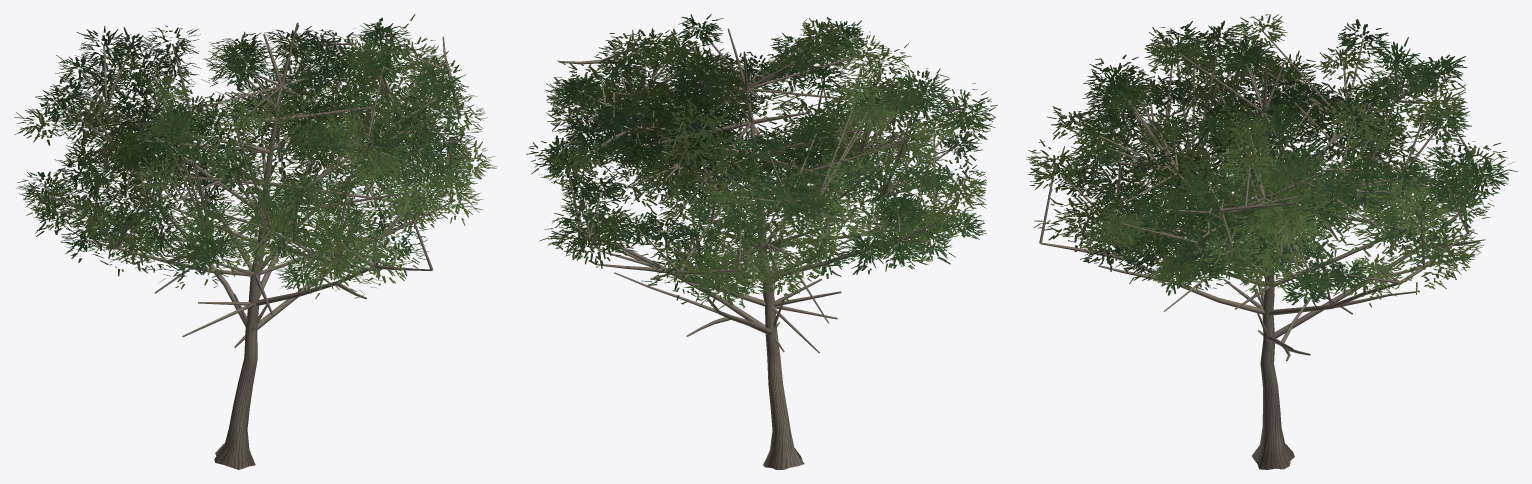
The model's file is oak.glb.
3 views of the same model, side by side, from view 1: azimuth 30°, elevation 25°; view 2: azimuth 150°, elevation 25°; view 3: azimuth 270°, elevation 25° (orthographic).
Parts seen in each view (by area): view 1: oak_lod0_1, oak_lod0_0; view 2: oak_lod0_1, oak_lod0_0; view 3: oak_lod0_1, oak_lod0_0.
Part boxes in pixels (<box>): oak_lod0_1: <box>14,14,497,298</box>; oak_lod0_0: <box>45,22,472,469</box>; oak_lod0_1: <box>526,14,997,309</box>; oak_lod0_0: <box>558,28,966,469</box>; oak_lod0_1: <box>1026,14,1517,307</box>; oak_lod0_0: <box>1039,30,1484,469</box>.
Size of what is drawn, in the model's own units: 10.72 by 10.09 by 10.49.
2 materials, 1 textured.
